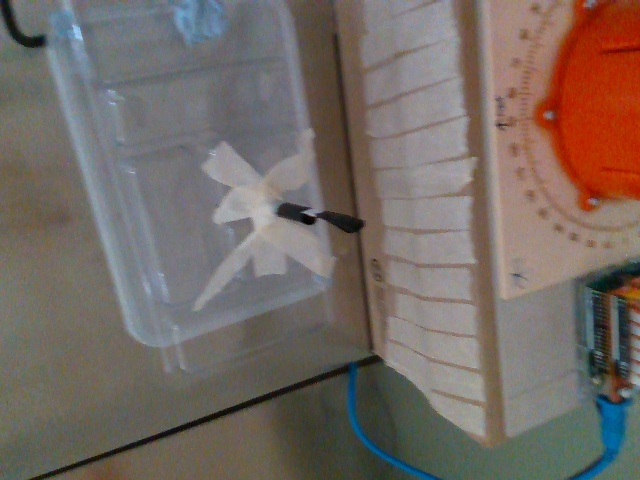test_strip: (301, 205, 364, 236)
